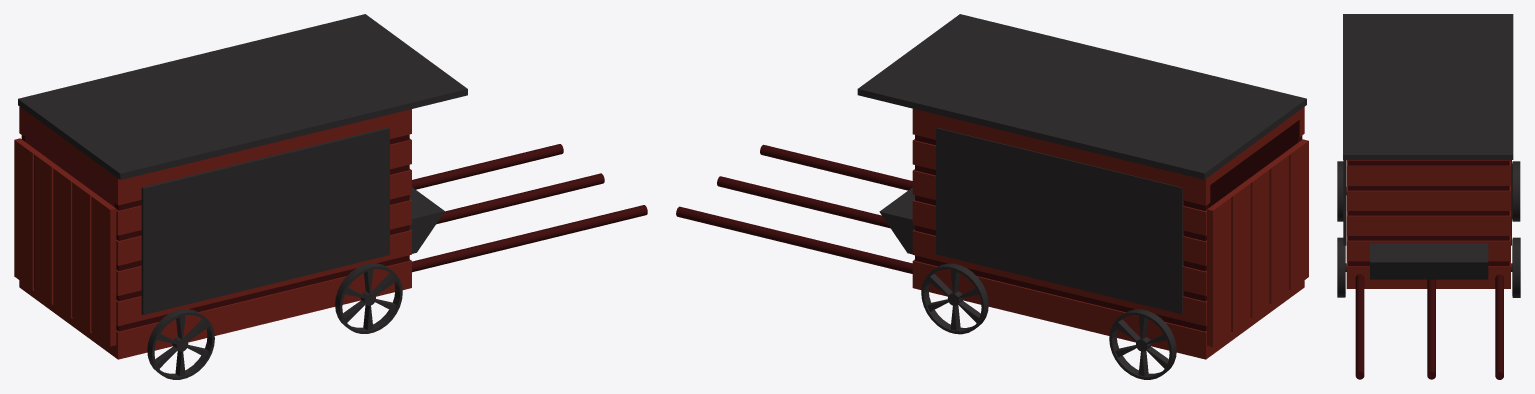
Rendered from Schlachterwagen.FBX.
The picture shows the model from 3 angles, left to right: view 1: azimuth 30°, elevation 25°; view 2: azimuth 150°, elevation 25°; view 3: azimuth 270°, elevation 25°; orthographic projection. The views are drawn at different scales.
Parts seen in each view (by area): view 1: Quader007, Quader009, Quader006, Quader005, Zylinder008, Zylinder003, Zylinder002, Zylinder009, Zylinder007, Quader003; view 2: Quader007, Quader008, Quader006, Quader005, Zylinder007, Zylinder001, Zylinder004, Zylinder009, Zylinder008, Quader003; view 3: Quader007, Quader006, Quader003, Zylinder008, Zylinder007, Zylinder009, Zylinder001, Zylinder004, Zylinder003, Zylinder002, Quader009.
Boxes of the visible parts, bbox=[...] form: Quader007: bbox=[18, 14, 467, 179]; Quader009: bbox=[141, 127, 389, 315]; Quader006: bbox=[19, 106, 411, 359]; Quader005: bbox=[14, 138, 116, 346]; Zylinder008: bbox=[412, 205, 647, 272]; Zylinder003: bbox=[335, 263, 402, 333]; Zylinder002: bbox=[147, 309, 214, 379]; Zylinder009: bbox=[436, 173, 604, 224]; Zylinder007: bbox=[412, 144, 563, 189]; Quader003: bbox=[409, 187, 444, 253]; Quader007: bbox=[857, 14, 1306, 179]; Quader008: bbox=[936, 127, 1183, 314]; Quader006: bbox=[912, 107, 1304, 359]; Quader005: bbox=[1207, 139, 1308, 346]; Zylinder007: bbox=[676, 206, 912, 273]; Zylinder001: bbox=[1109, 309, 1176, 379]; Zylinder004: bbox=[921, 263, 988, 334]; Zylinder009: bbox=[717, 176, 889, 228]; Zylinder008: bbox=[760, 144, 912, 190]; Quader003: bbox=[879, 187, 914, 254]; Quader007: bbox=[1343, 14, 1513, 159]; Quader006: bbox=[1346, 160, 1510, 288]; Quader003: bbox=[1370, 243, 1488, 279]; Zylinder008: bbox=[1355, 274, 1364, 379]; Zylinder007: bbox=[1495, 274, 1503, 379]; Zylinder009: bbox=[1427, 279, 1435, 379]; Zylinder001: bbox=[1512, 161, 1520, 221]; Zylinder004: bbox=[1512, 237, 1520, 297]; Zylinder003: bbox=[1337, 237, 1345, 297]; Zylinder002: bbox=[1337, 161, 1343, 221]; Quader009: bbox=[1343, 160, 1346, 245].
Bounding box in the file's own units: 179 × 68.71 × 63.21.
